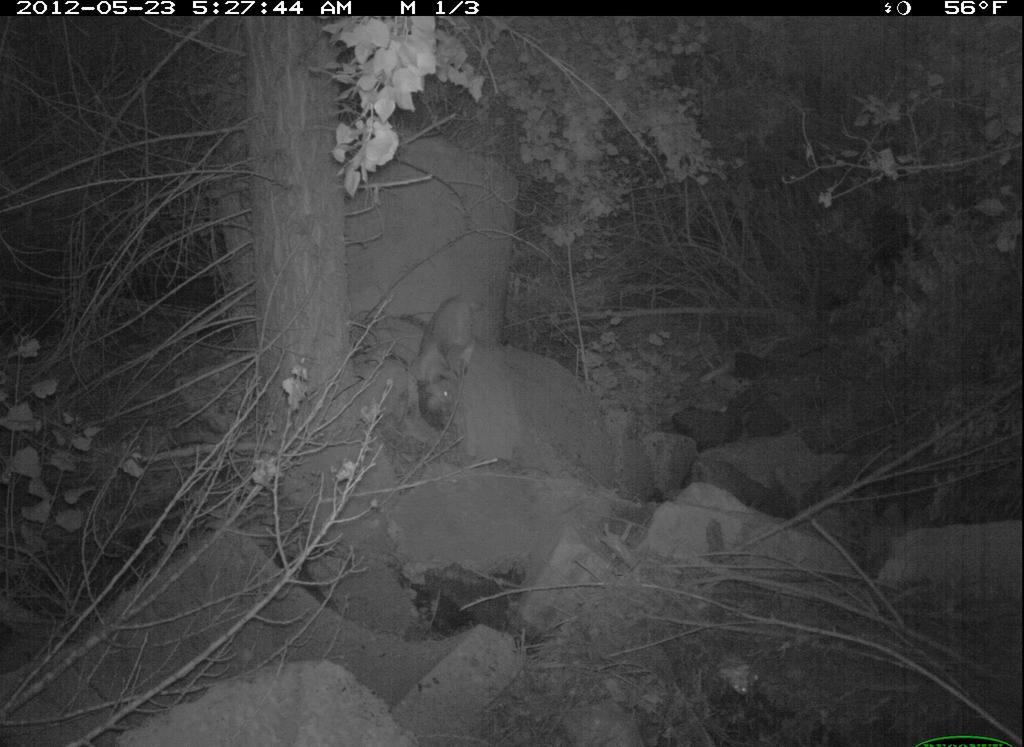bobcat: (410, 287, 490, 425)
